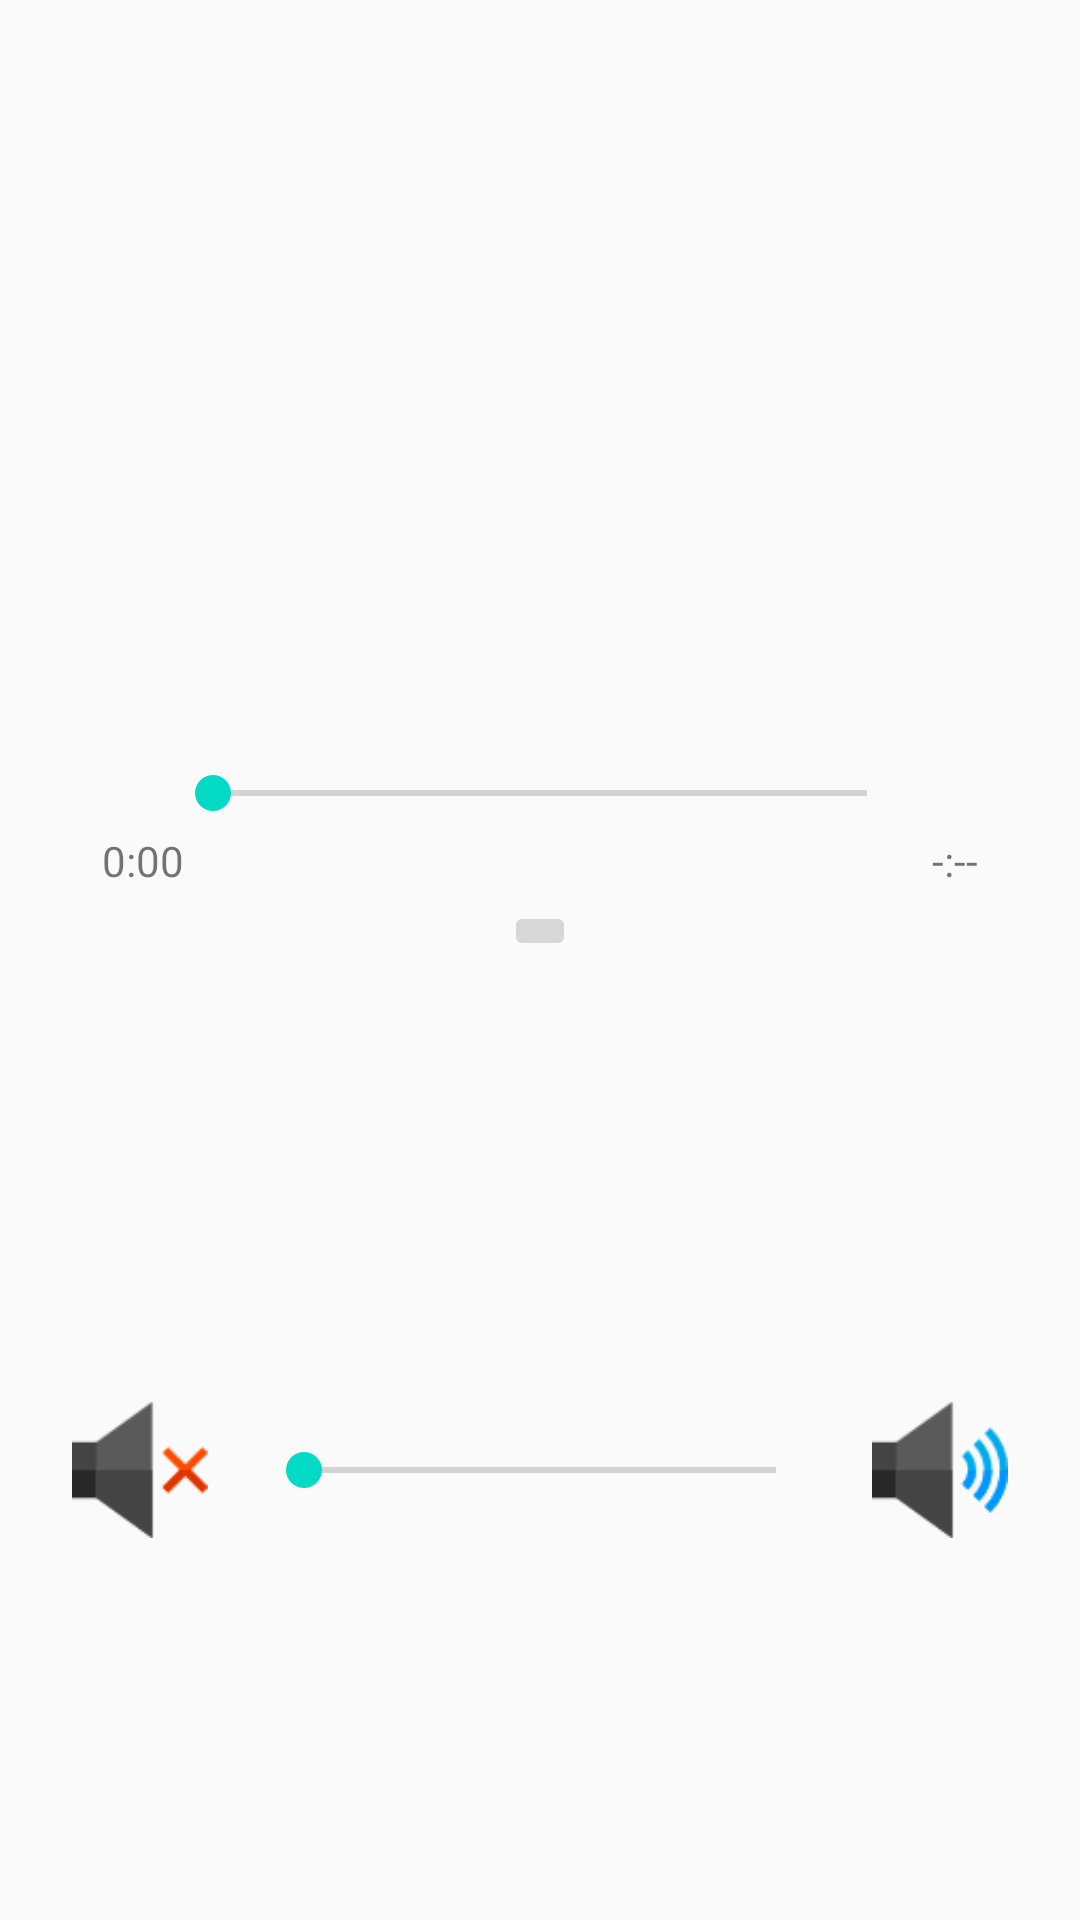

Icon bounding boxes for this 1080x1920 phone screenshot, format detection(x1, y1, x2, y2):
mute: detection(72, 1402, 208, 1538)
speaker: detection(872, 1402, 1008, 1538)
